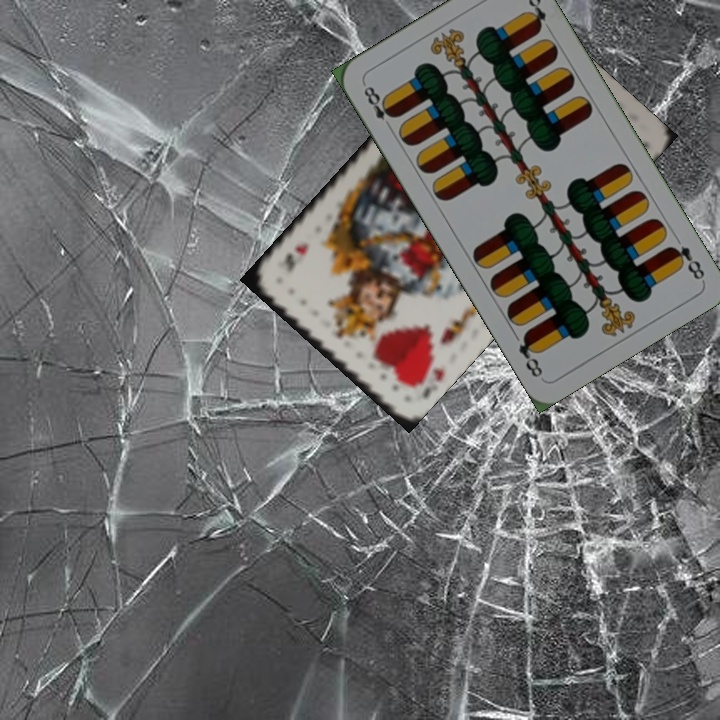E8: (359, 82, 399, 133), (664, 241, 708, 283)
HK: (418, 363, 448, 403)
